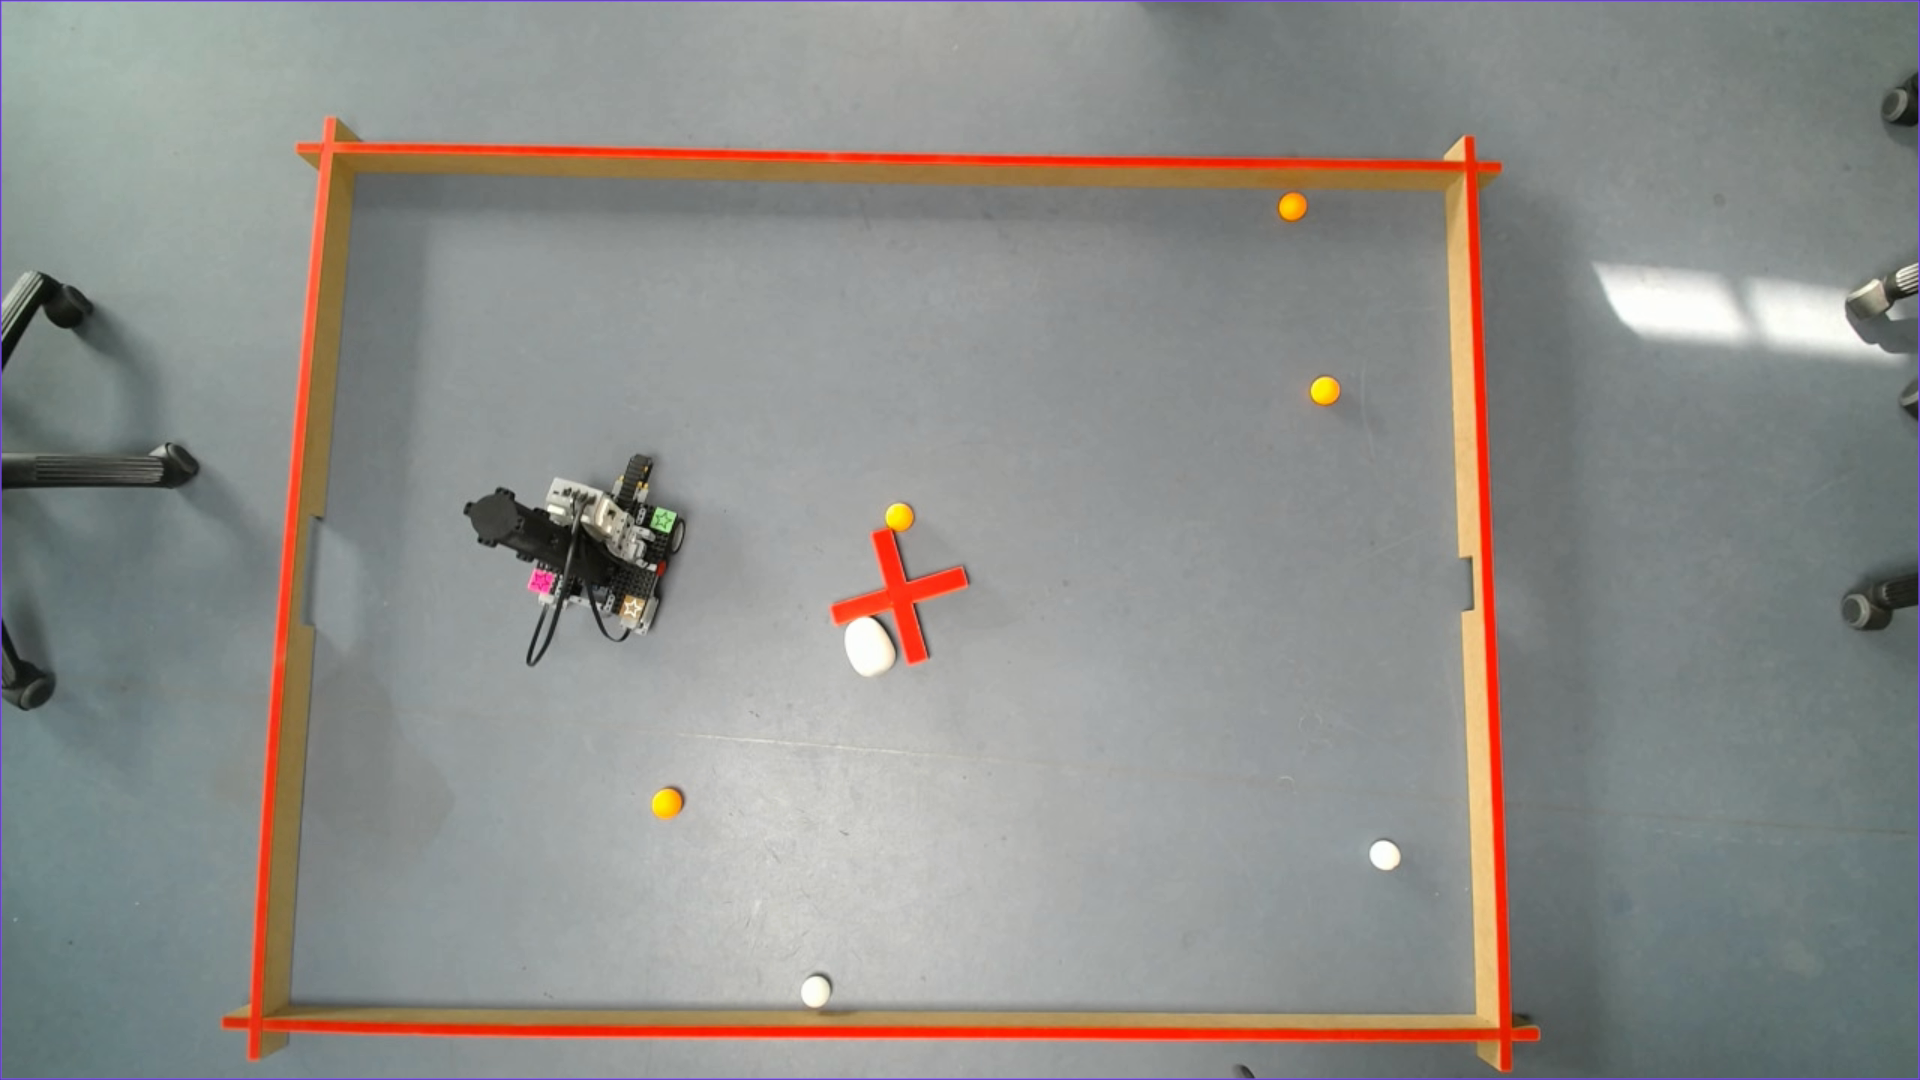ball_orange: (1309, 375, 1341, 405), (1276, 191, 1307, 222), (651, 789, 682, 818), (885, 502, 913, 531)
ball_white: (1367, 837, 1400, 872), (800, 975, 831, 1009)
corner_brown: (621, 595, 645, 618)
corner_green: (650, 506, 676, 531)
corner_pink: (527, 567, 555, 593)
cross: (827, 527, 967, 670)
egg: (844, 616, 895, 676)
playfield: (225, 146, 1523, 1058)
playfield_corner: (229, 1000, 280, 1047), (1445, 144, 1494, 191), (309, 125, 357, 171), (1478, 1007, 1527, 1054)
